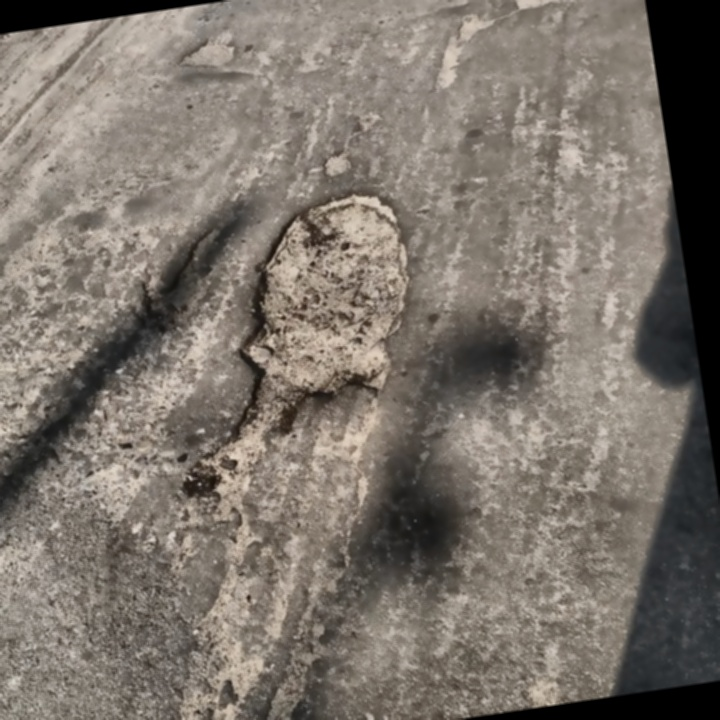pothole: (145, 181, 445, 494), (126, 222, 238, 333), (421, 9, 508, 94), (173, 26, 244, 76), (317, 149, 356, 179), (510, 0, 581, 12)
